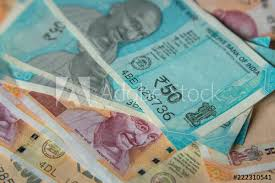fifty: (82, 4, 217, 113)
